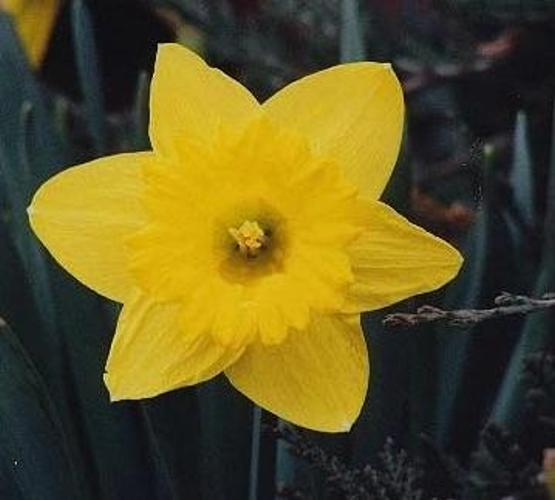flower1: (28, 39, 466, 436)
